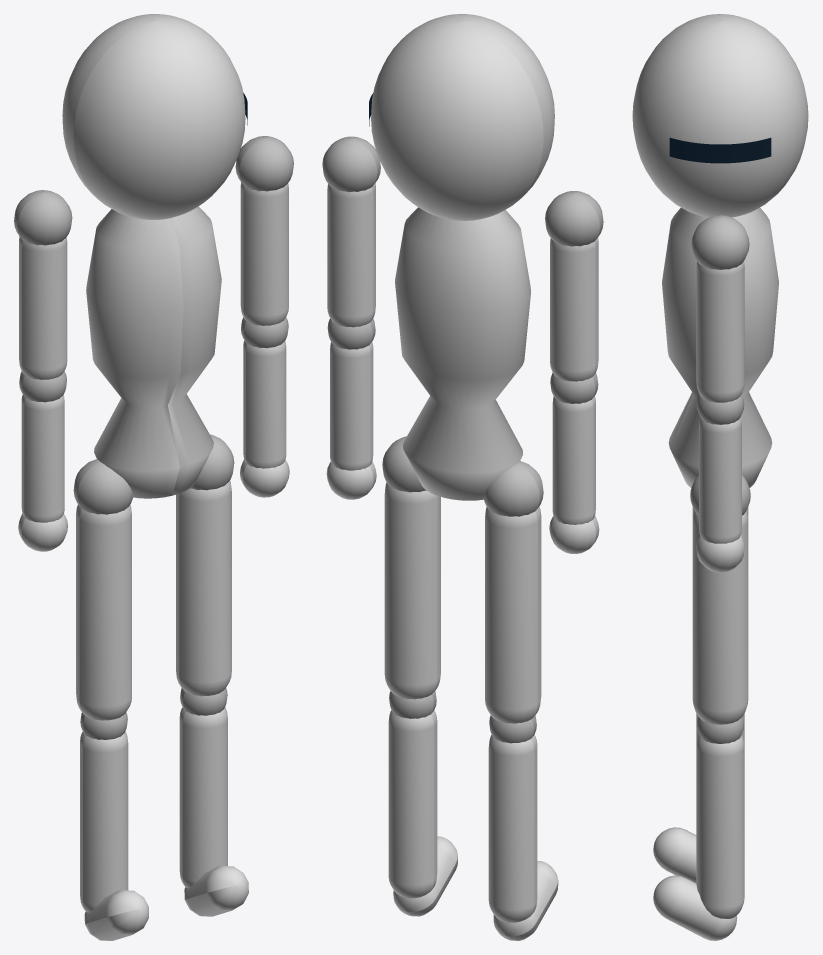
The model's file is slim.glb.
The picture shows the model from 3 angles, left to right: view 1: azimuth 30°, elevation 25°; view 2: azimuth 150°, elevation 25°; view 3: azimuth 270°, elevation 25°; orthographic projection.
Parts seen in each view (by area): view 1: Torso, HeadMesh, Thigh_L, Thigh_R, Shin_R, Shin_L, UpperArm_R, UpperArm_L, ForeArm_R, ForeArm_L, Joint_LS, Joint_RS (+10 smaller); view 2: Torso, HeadMesh, Thigh_L, Thigh_R, Shin_R, Shin_L, UpperArm_L, UpperArm_R, ForeArm_L, ForeArm_R, Joint_LS, Joint_RS (+10 smaller); view 3: HeadMesh, Torso, Thigh_R, Shin_R, UpperArm_R, ForeArm_R, Foot_R, Joint_RS, Visor, Foot_L, Hand_R, Joint_RE (+2 smaller).
Boxes of the visible parts, x1,y1,x2,y2 form: Torso: (86, 206, 221, 498); HeadMesh: (62, 14, 245, 219); Thigh_L: (76, 504, 131, 720); Thigh_R: (176, 480, 231, 696); Shin_R: (179, 707, 227, 888); Shin_L: (80, 731, 128, 912); UpperArm_R: (240, 182, 288, 325); UpperArm_L: (19, 236, 67, 379); ForeArm_R: (243, 340, 286, 468); ForeArm_L: (21, 394, 64, 522); Joint_LS: (14, 190, 72, 245); Joint_RS: (235, 136, 293, 191); Torso: (395, 207, 530, 500); HeadMesh: (371, 14, 554, 220); Thigh_L: (485, 506, 541, 723); Thigh_R: (384, 482, 440, 699); Shin_R: (388, 710, 437, 898); Shin_L: (488, 735, 537, 922); UpperArm_L: (550, 237, 598, 381); UpperArm_R: (327, 183, 375, 327); ForeArm_L: (552, 396, 595, 524); ForeArm_R: (330, 342, 373, 470); Joint_LS: (545, 191, 603, 246); Joint_RS: (322, 136, 380, 192); HeadMesh: (632, 14, 808, 217); Torso: (662, 207, 778, 487); Thigh_R: (692, 511, 748, 724); Shin_R: (696, 735, 744, 918); UpperArm_R: (696, 261, 744, 402); ForeArm_R: (699, 417, 741, 543); Foot_R: (653, 875, 737, 940); Joint_RS: (691, 215, 749, 269); Visor: (669, 137, 771, 163); Foot_L: (653, 827, 696, 882); Hand_R: (696, 535, 744, 572); Joint_RE: (696, 394, 744, 424).
Size of the model in its own units: 0.492 by 1.56 by 0.2784.
